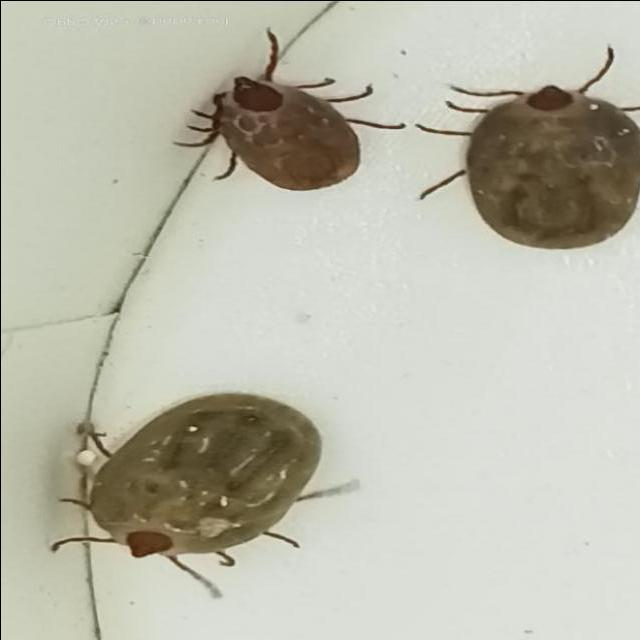Rhipicephalus Sanguineus-F-Fed: (50, 391, 360, 598), (413, 83, 640, 248), (172, 27, 399, 190)
